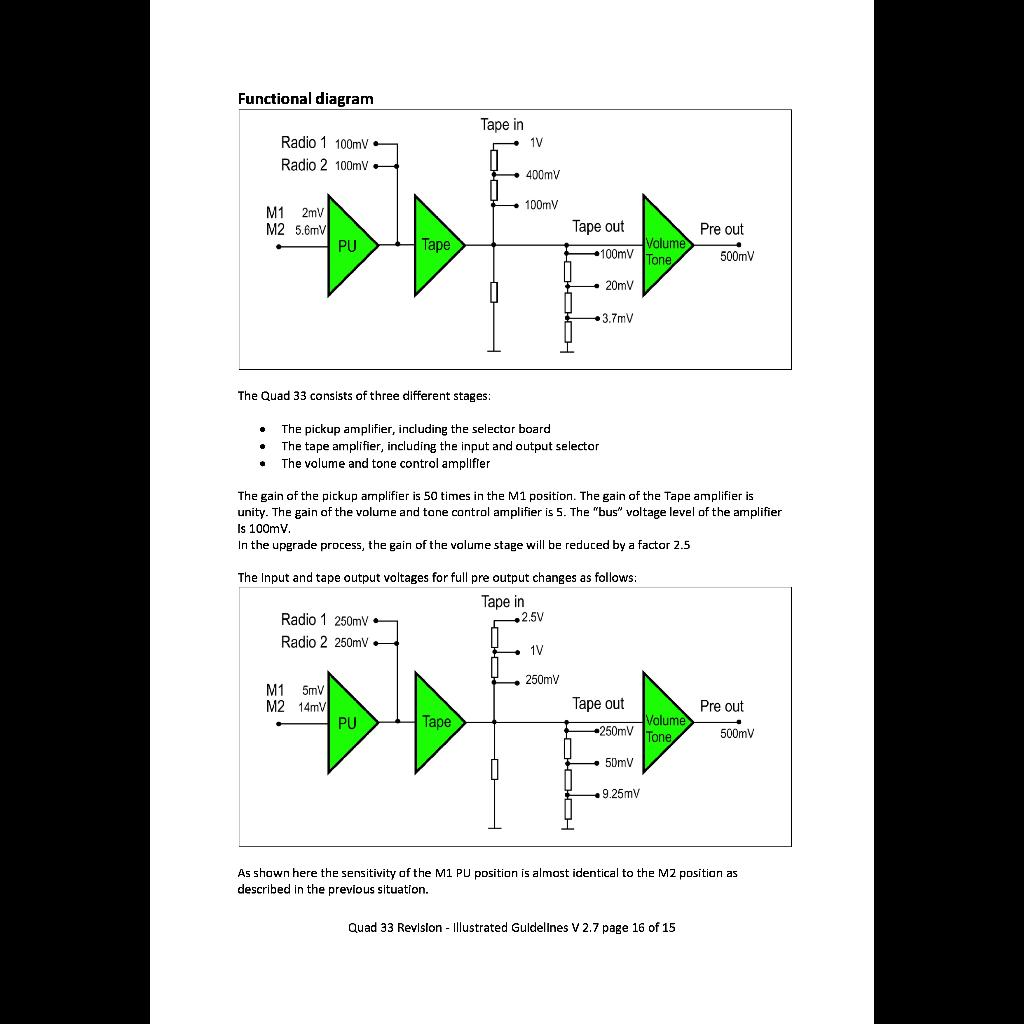Diagram: (236, 106, 798, 376), (238, 584, 794, 850)
